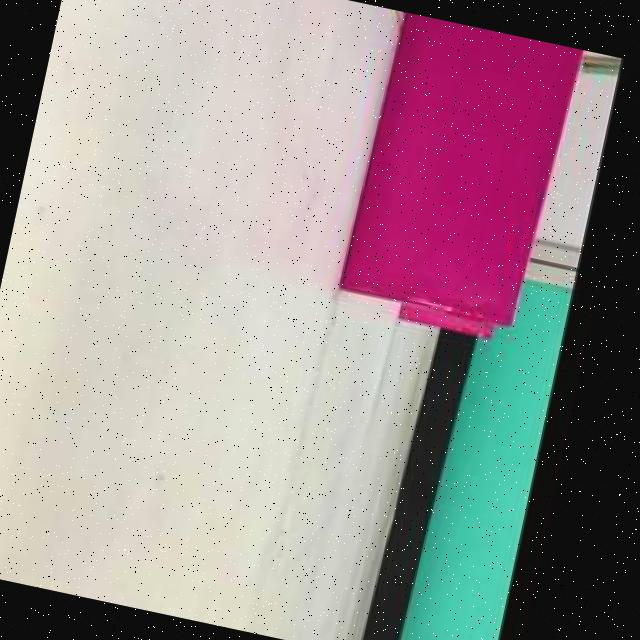xparking: (338, 10, 568, 322)
